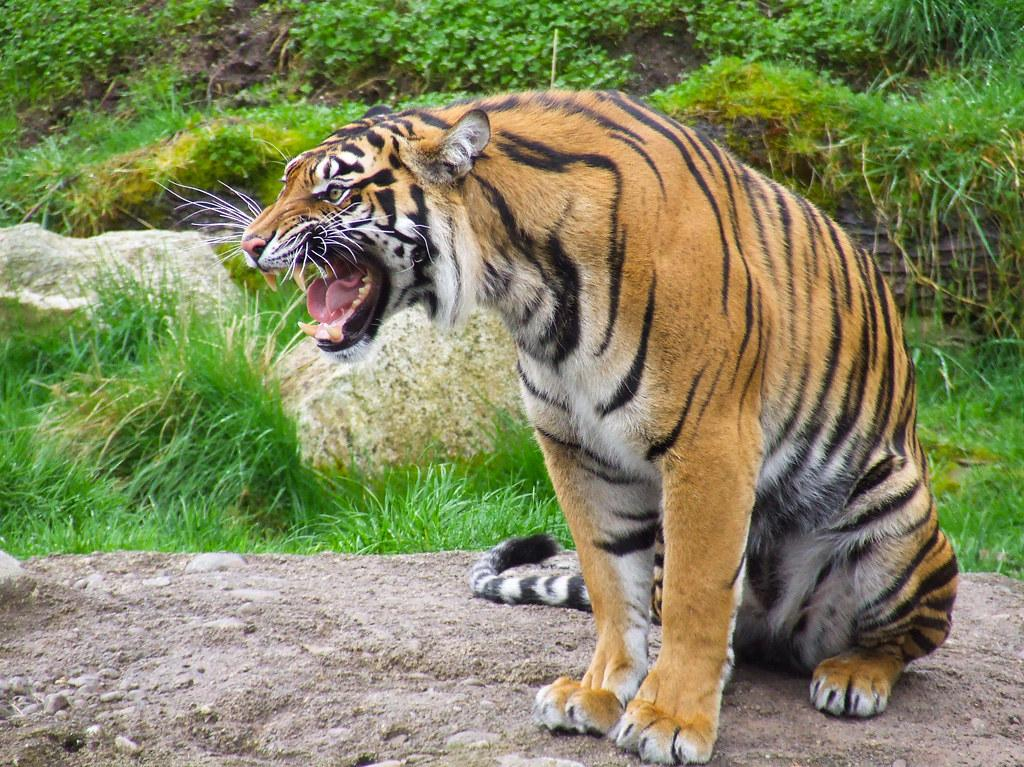tiger: (163, 86, 961, 765)
